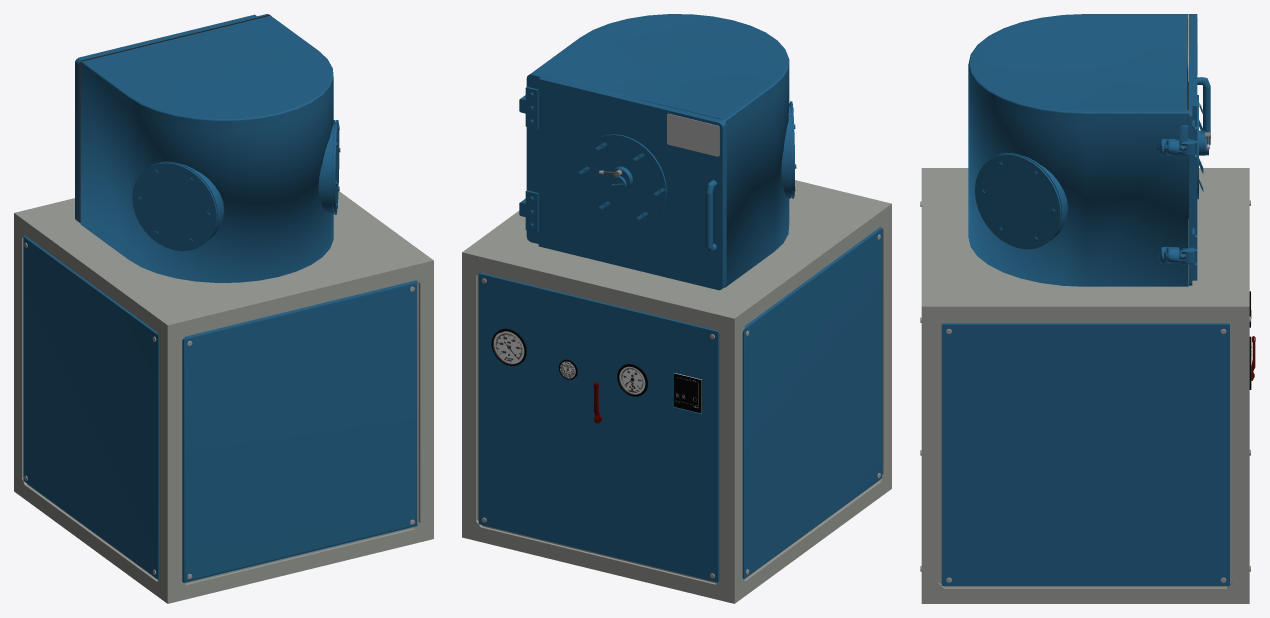
File: PlasmaMach.fbx
3 renders of one model, left to right at view 1: azimuth 30°, elevation 25°; view 2: azimuth 150°, elevation 25°; view 3: azimuth 270°, elevation 25°, orthographic. The views are drawn at different scales.
Parts seen in each view (by area): view 1: BasedCube, ContainPlasma, PipeSide, OutSideDoor; view 2: BasedCube, OutSideDoor, ContainPlasma, NamedPlateOutSideDoor, TermInt, PipeSide, Circle.001, Circle, Handle, Cylinder.006; view 3: BasedCube, ContainPlasma, PipeSide, OutSideDoor, Handle.
Boxes of the visible parts, bbox=[...] form: BasedCube: bbox=[14, 191, 433, 603]; ContainPlasma: bbox=[80, 15, 333, 282]; PipeSide: bbox=[132, 120, 339, 251]; OutSideDoor: bbox=[75, 14, 270, 223]; BasedCube: bbox=[462, 180, 891, 603]; OutSideDoor: bbox=[519, 73, 726, 290]; ContainPlasma: bbox=[531, 14, 789, 287]; NamedPlateOutSideDoor: bbox=[667, 113, 719, 156]; TermInt: bbox=[673, 373, 701, 413]; PipeSide: bbox=[781, 101, 794, 198]; Circle.001: bbox=[493, 331, 523, 364]; Circle: bbox=[494, 331, 524, 363]; Handle: bbox=[705, 180, 716, 252]; Cylinder.006: bbox=[619, 367, 644, 394]; BasedCube: bbox=[921, 168, 1249, 603]; ContainPlasma: bbox=[968, 14, 1188, 286]; PipeSide: bbox=[975, 153, 1067, 249]; OutSideDoor: bbox=[1181, 14, 1210, 285]; Handle: bbox=[1197, 77, 1210, 144].
Size of the model in its own units: 1107 by 1746 by 1124.
